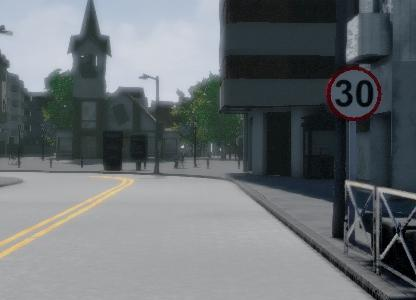Speed_30: (323, 63, 384, 121)
